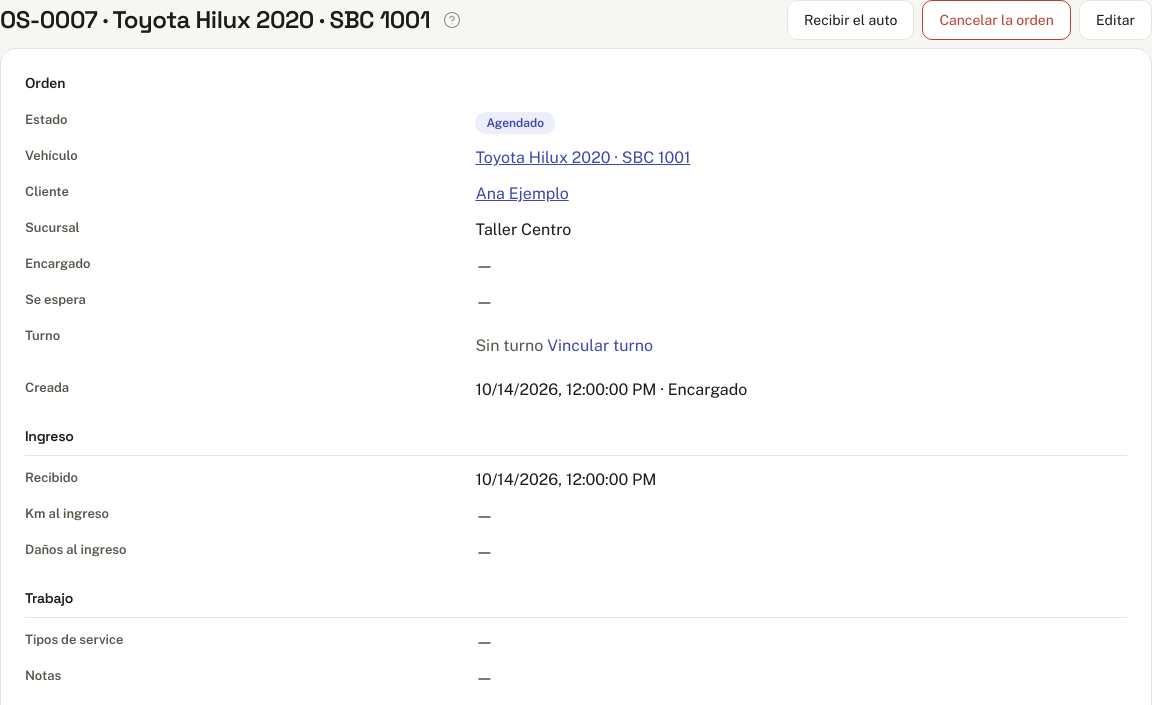
Test: Órdenes — ficha › recibir exige km antes de pedir nada al backend
The width and height of the screenshot is (1152, 705).
Click the button "Recibir el auto": [851, 20] box 787,0 -> 914,40
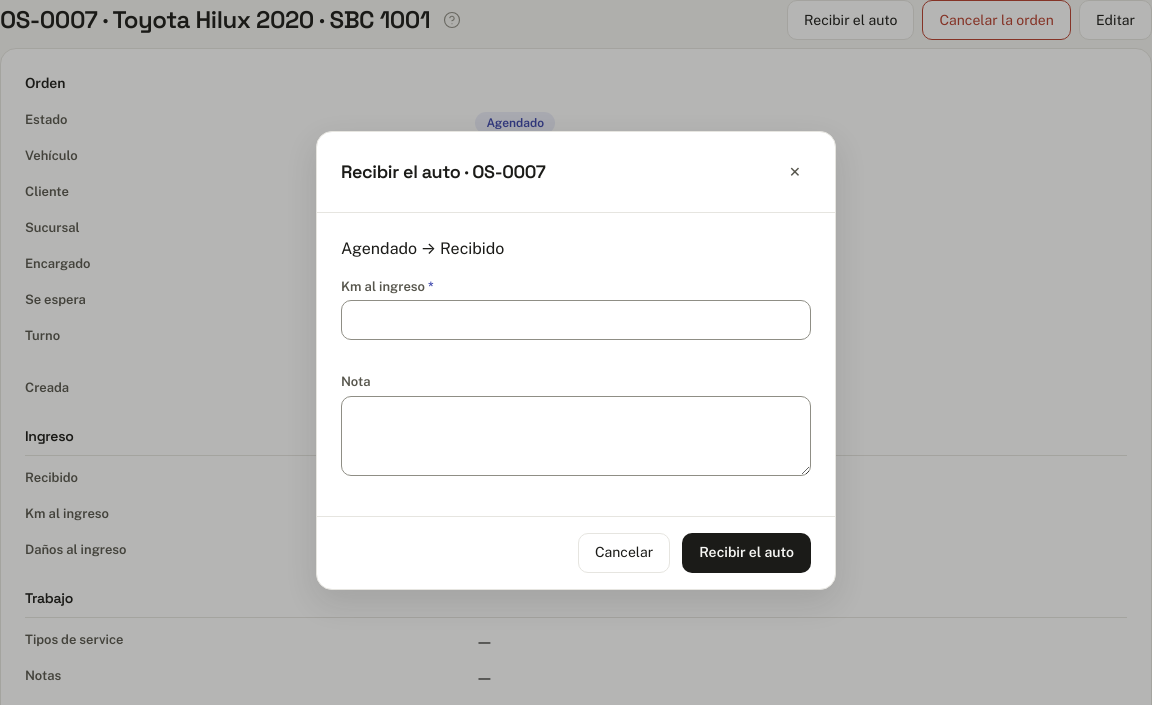
Click the button "Recibir el auto": [747, 552] box 682,532 -> 811,572
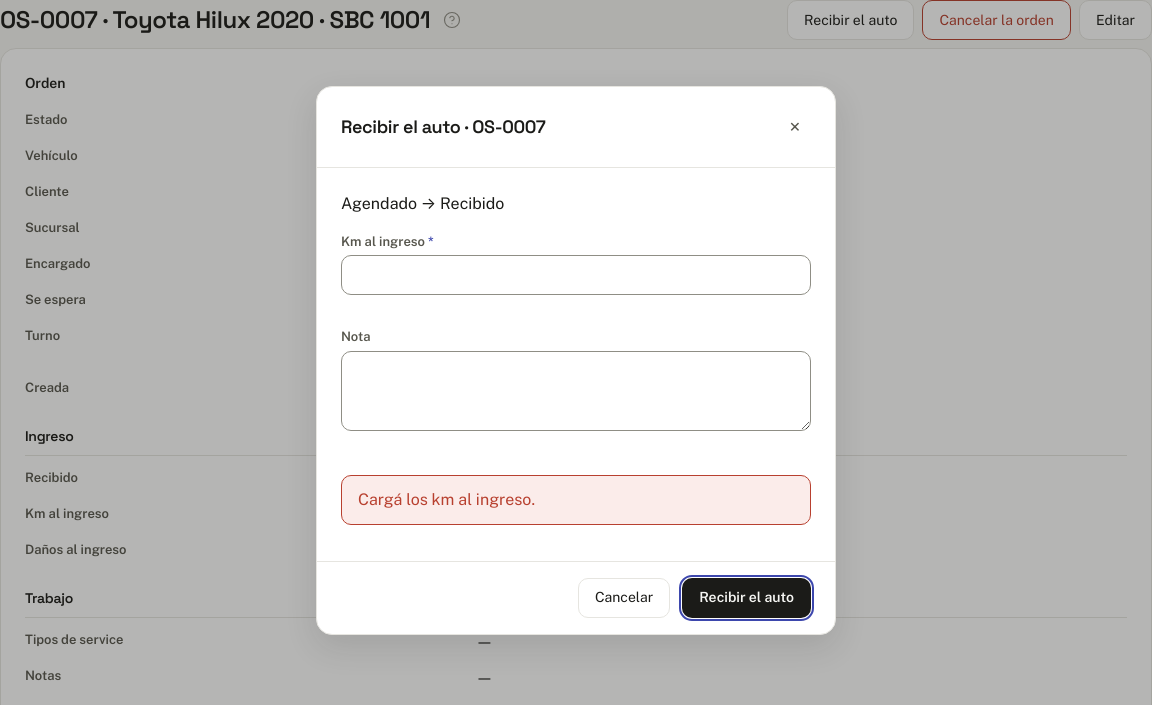
Check: the text "Cargá los km al ingreso." is shown, box 341,474 -> 811,524
